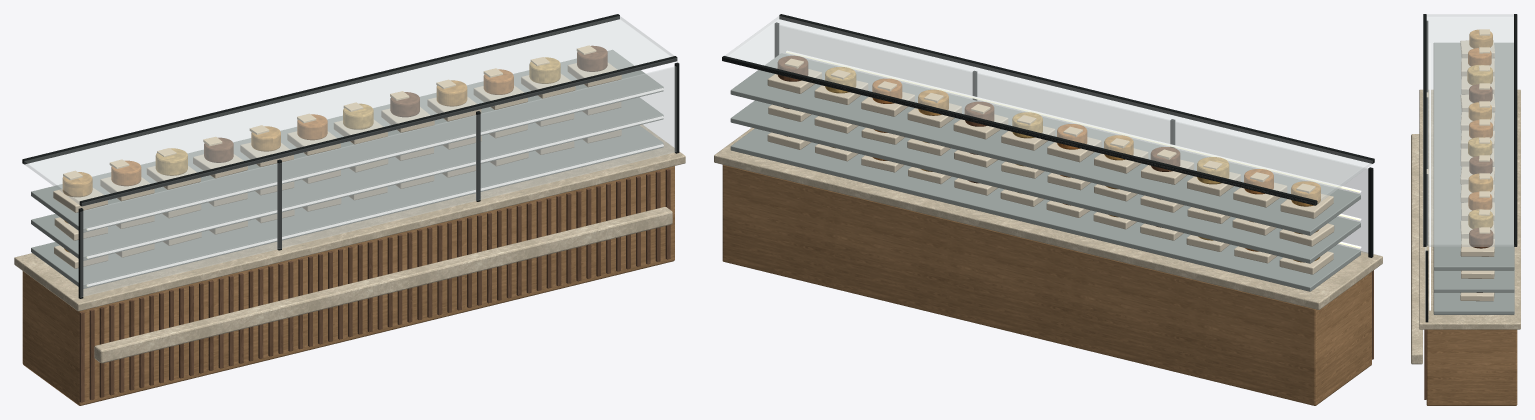
File: hiperreal-hd.glb
The picture shows the model from 3 angles, left to right: view 1: azimuth 30°, elevation 25°; view 2: azimuth 150°, elevation 25°; view 3: azimuth 270°, elevation 25°; orthographic projection. The views are drawn at different scales.
Parts seen in each view (by area): view 1: starbucksDisplay_181, starbucksDisplay_182, starbucksDisplay_0, starbucksDisplay_139, starbucksDisplay_61, starbucksDisplay_63, starbucksDisplay_101, starbucksDisplay_62, starbucksDisplay_183, starbucksDisplay_184, starbucksDisplay_138, starbucksDisplay_100 (+13 smaller); view 2: starbucksDisplay_0, starbucksDisplay_182, starbucksDisplay_139, starbucksDisplay_181, starbucksDisplay_101, starbucksDisplay_63, starbucksDisplay_61, starbucksDisplay_183, starbucksDisplay_184, starbucksDisplay_176, starbucksDisplay_140, starbucksDisplay_152 (+11 smaller); view 3: starbucksDisplay_182, starbucksDisplay_139, starbucksDisplay_0, starbucksDisplay_61, starbucksDisplay_62, starbucksDisplay_101, starbucksDisplay_63, starbucksDisplay_183, starbucksDisplay_184, starbucksDisplay_176, starbucksDisplay_173, starbucksDisplay_147 (+29 smaller).
Part boxes in pixels (box(x1,y1,x2,y2)): starbucksDisplay_181: box(80, 66, 676, 297); starbucksDisplay_182: box(24, 16, 677, 206); starbucksDisplay_0: box(22, 166, 674, 405); starbucksDisplay_139: box(31, 50, 663, 232); starbucksDisplay_61: box(14, 124, 685, 311); starbucksDisplay_63: box(31, 125, 663, 288); starbucksDisplay_101: box(31, 97, 663, 260); starbucksDisplay_62: box(94, 207, 672, 363); starbucksDisplay_183: box(22, 14, 619, 164); starbucksDisplay_184: box(79, 56, 677, 206); starbucksDisplay_138: box(86, 116, 663, 258); starbucksDisplay_100: box(86, 144, 663, 286); starbucksDisplay_0: box(722, 165, 1371, 405); starbucksDisplay_182: box(725, 16, 1372, 203); starbucksDisplay_139: box(730, 53, 1360, 235); starbucksDisplay_181: box(779, 25, 1373, 254); starbucksDisplay_101: box(730, 100, 1360, 263); starbucksDisplay_63: box(730, 128, 1360, 291); starbucksDisplay_61: box(714, 127, 1382, 309); starbucksDisplay_183: box(722, 56, 1317, 205); starbucksDisplay_184: box(779, 14, 1374, 163); starbucksDisplay_176: box(786, 50, 1361, 192); starbucksDisplay_140: box(1280, 194, 1333, 218); starbucksDisplay_152: box(1094, 148, 1148, 173); starbucksDisplay_182: box(1423, 14, 1515, 246); starbucksDisplay_139: box(1433, 42, 1514, 270); starbucksDisplay_0: box(1426, 329, 1517, 405); starbucksDisplay_61: box(1419, 89, 1520, 329); starbucksDisplay_62: box(1411, 134, 1422, 364); starbucksDisplay_101: box(1433, 270, 1514, 292); starbucksDisplay_63: box(1433, 292, 1514, 314); starbucksDisplay_183: box(1514, 14, 1517, 246); starbucksDisplay_184: box(1423, 14, 1426, 246); starbucksDisplay_176: box(1429, 43, 1430, 266); starbucksDisplay_173: box(1460, 238, 1494, 256); starbucksDisplay_147: box(1467, 65, 1492, 85).
Bounding box in the file's own units: 6.12 × 1.98 × 1.21.
13 materials, 7 textured.
